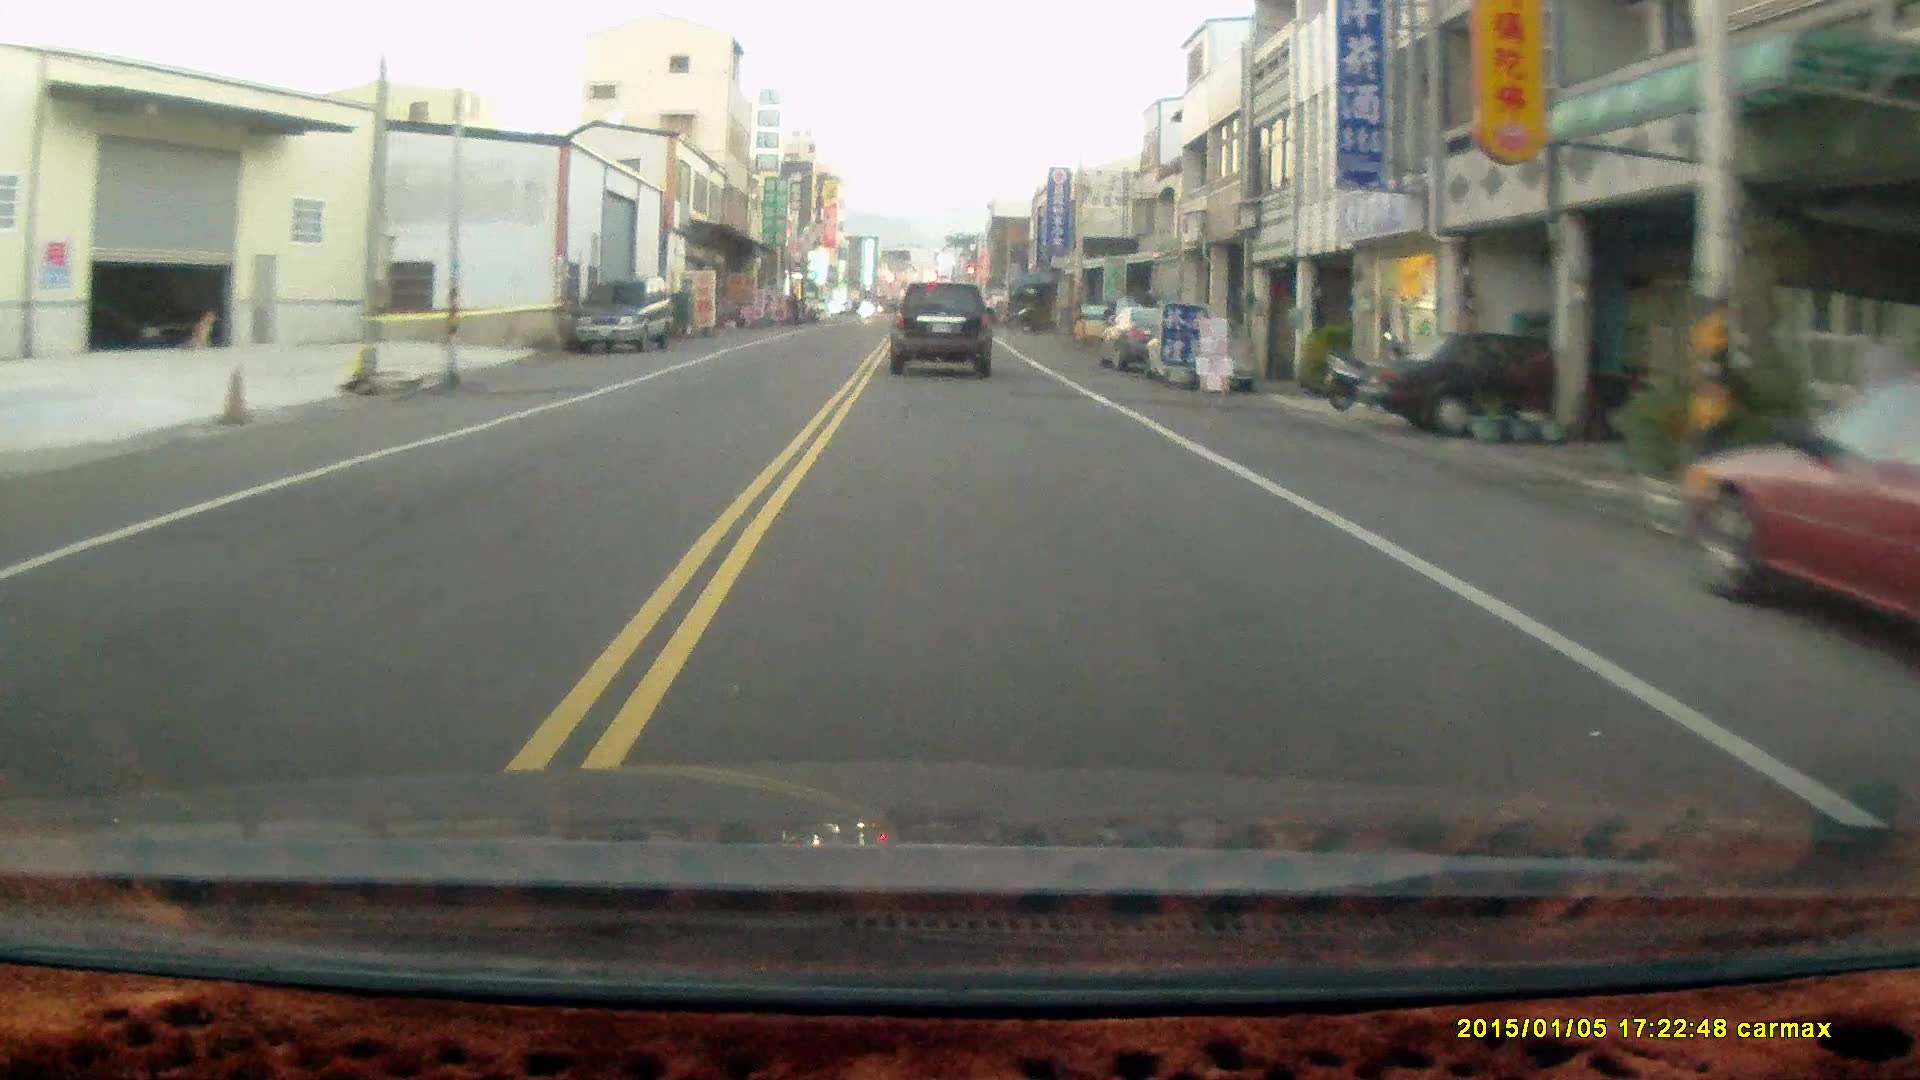vehicle: (1677, 360, 1920, 655), (1362, 331, 1676, 436), (890, 282, 996, 380), (575, 276, 679, 356)
